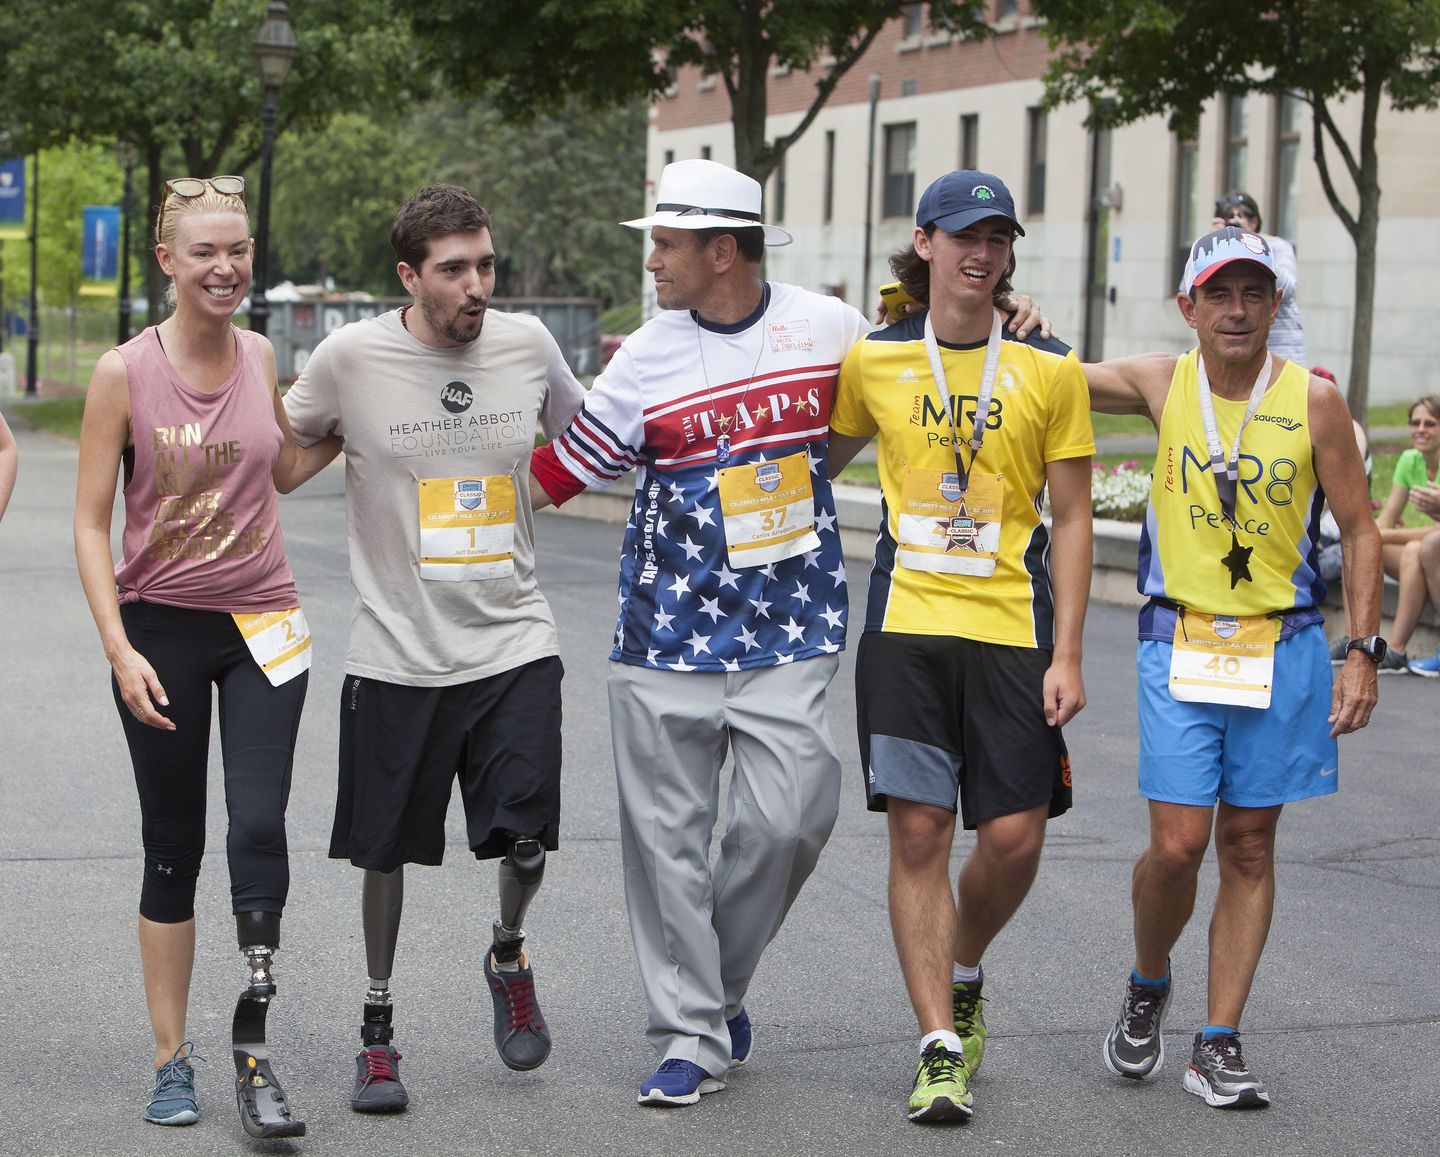Person: (577, 192, 820, 1078), (106, 178, 320, 1142), (1113, 235, 1356, 1057), (891, 178, 1091, 1071), (356, 228, 534, 1092)
